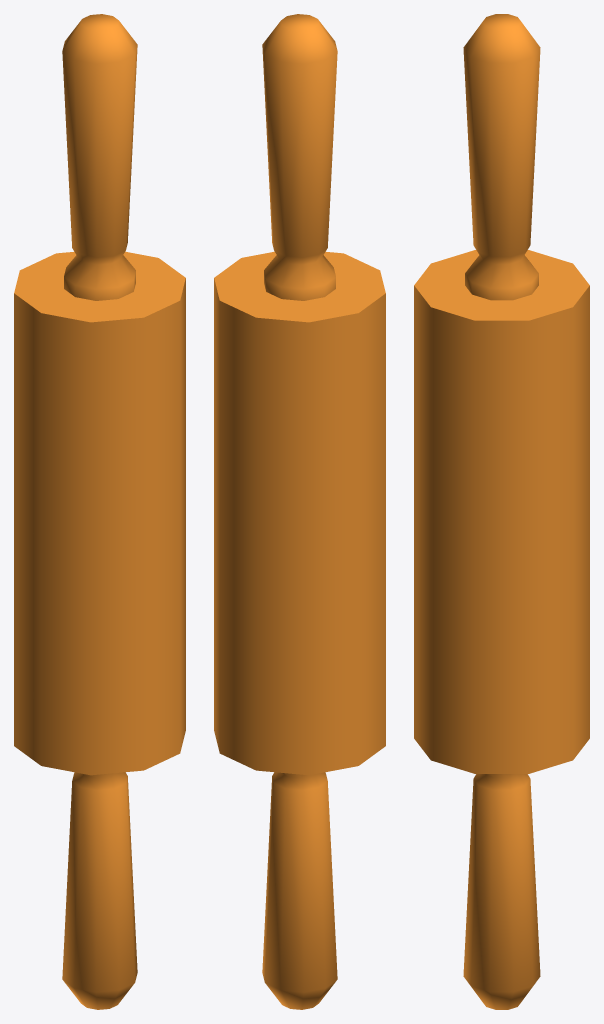
The model's file is Rolling_Pin.fbx.
3 renders of one model, left to right at view 1: azimuth 30°, elevation 25°; view 2: azimuth 150°, elevation 25°; view 3: azimuth 270°, elevation 25°, orthographic.
Visible parts, largest first — view 1: Rolling_Pin; view 2: Rolling_Pin; view 3: Rolling_Pin.
Boxes of the visible parts, box(x1,y1,x2,y2) form: Rolling_Pin: box(14, 14, 185, 1009); Rolling_Pin: box(214, 14, 385, 1009); Rolling_Pin: box(414, 14, 589, 1009).
Bounding box in the file's own units: 0.4106 × 2.66 × 0.4318.
